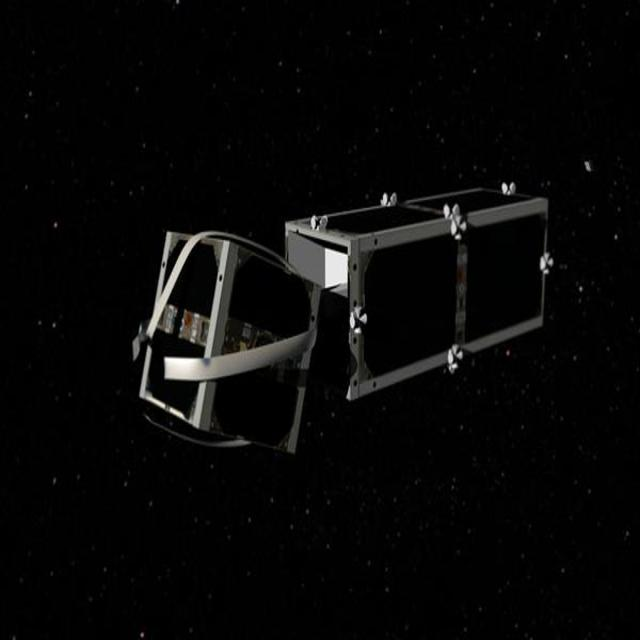satellite: (123, 165, 555, 471)
